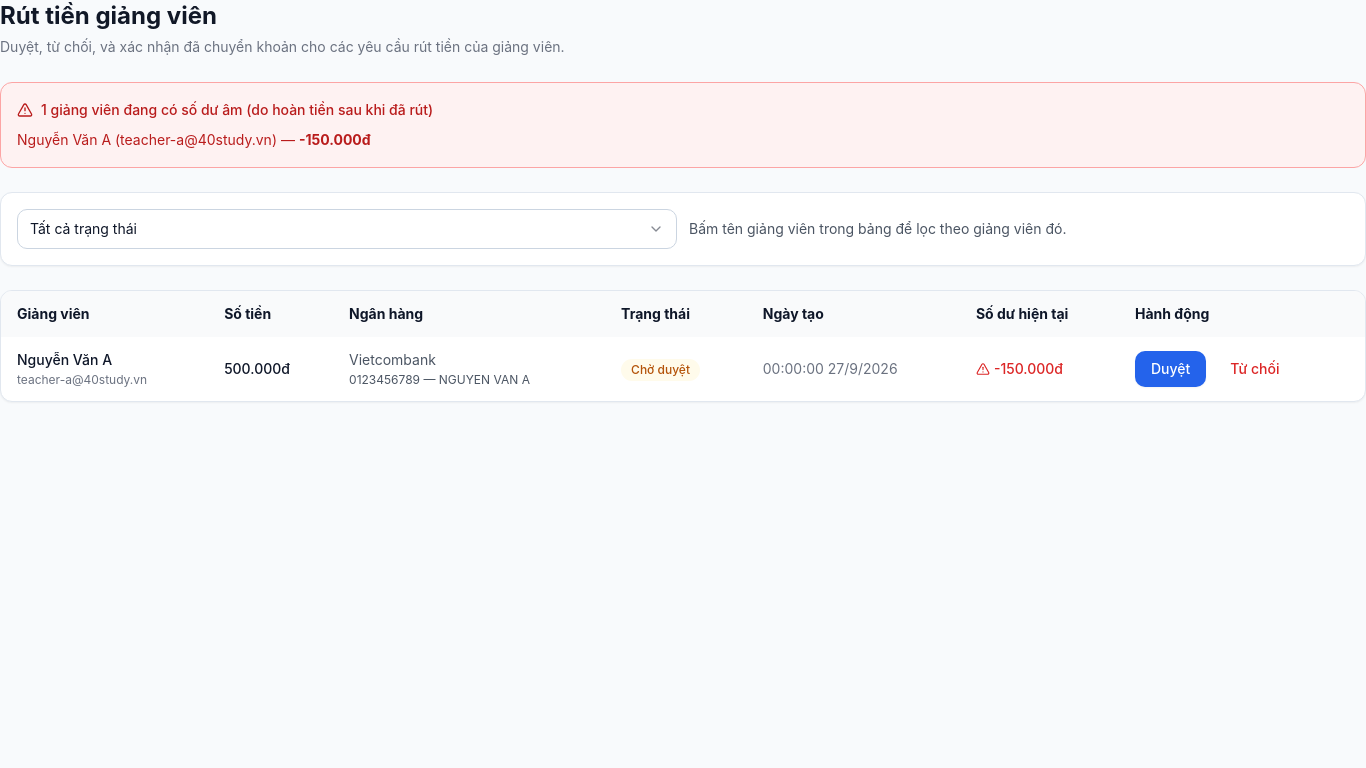
AdminWithdrawalsPage › giảng viên số dư âm -> banner cảnh báo + cảnh báo trong dialog duyệt
Expected: the text "1 giảng viên đang có số dư âm (do hoàn tiền sau khi đã rút)" is shown, top-left (17, 101), bottom-right (433, 118)
Click the button "Duyệt".
click(1171, 369)  # box top-left (1135, 351), bottom-right (1206, 387)
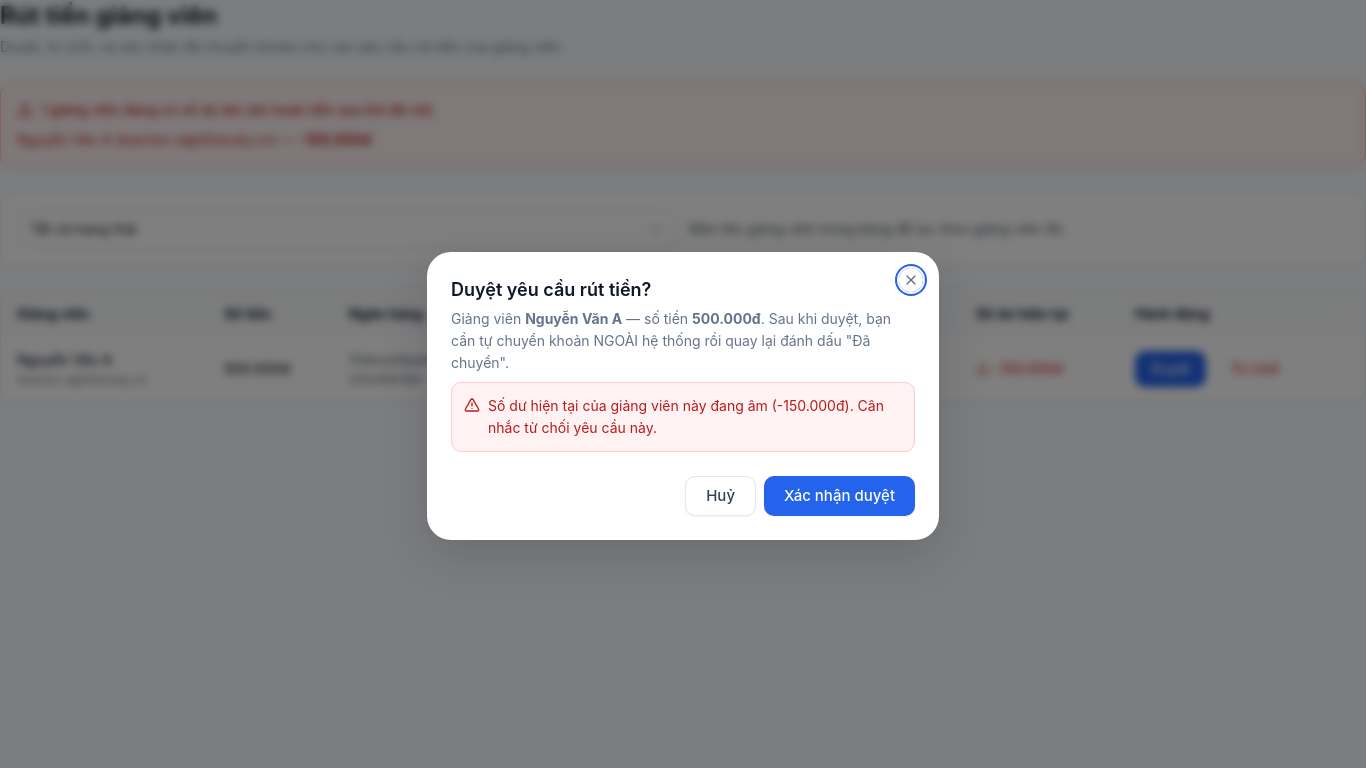
Expected: the text "Cân nhắc từ chối" is shown, top-left (488, 397), bottom-right (884, 436)
